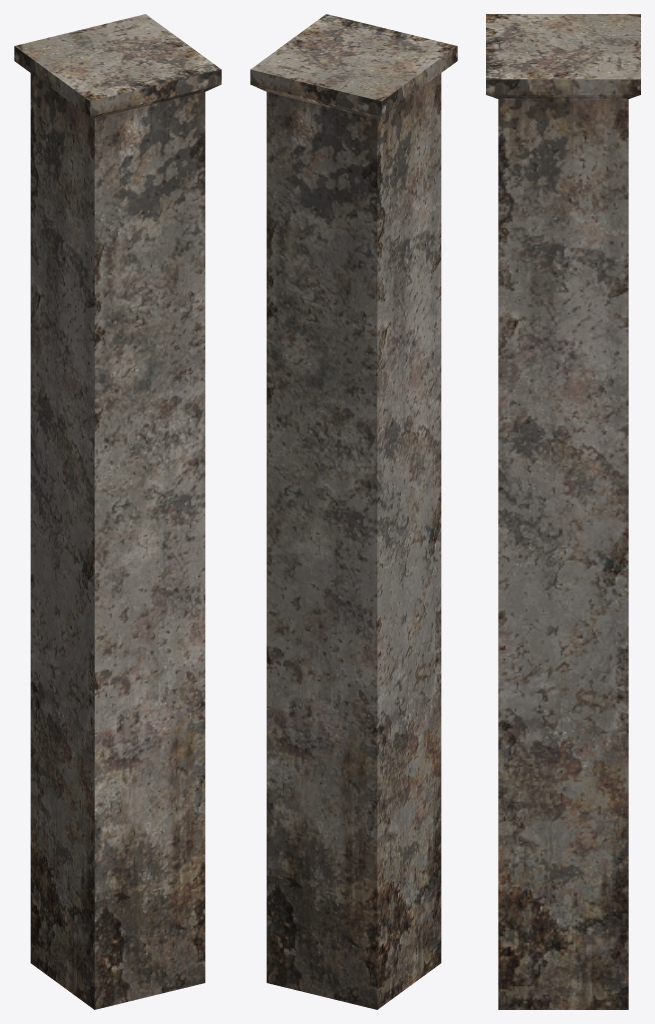
Rendered from Wall3A.fbx.
The picture shows the model from 3 angles, left to right: view 1: azimuth 30°, elevation 25°; view 2: azimuth 150°, elevation 25°; view 3: azimuth 270°, elevation 25°; orthographic projection. The views are drawn at different scales.
Visible parts, largest first — view 1: pCube1; view 2: pCube1; view 3: pCube1.
Part boxes in pixels (x1=…): pCube1: x1=14, y1=14, x2=221, y2=1009; pCube1: x1=250, y1=14, x2=457, y2=1009; pCube1: x1=486, y1=14, x2=640, y2=1009.
Bounding box in the file's own units: 0.4779 × 3.18 × 0.4779.
